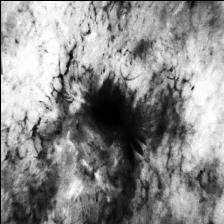Potentially Malignant Skin Tumors: (83, 98, 125, 134)
